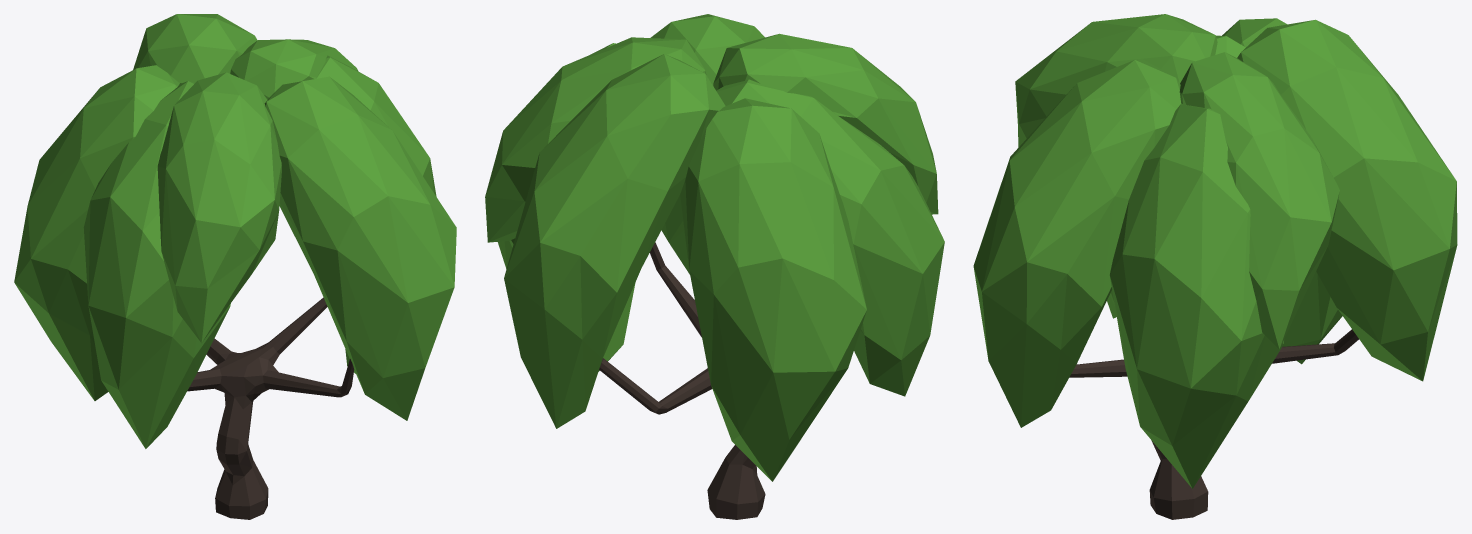
File: Willow_Tree_Spring.fbx
3 renders of one model, left to right at view 1: azimuth 30°, elevation 25°; view 2: azimuth 150°, elevation 25°; view 3: azimuth 270°, elevation 25°, orthographic. The views are drawn at different scales.
Visible parts, largest first — view 1: Willow_Tree_Spring; view 2: Willow_Tree_Spring; view 3: Willow_Tree_Spring.
Boxes of the visible parts, x1,y1,x2,y2 form: Willow_Tree_Spring: [14, 14, 456, 519]; Willow_Tree_Spring: [485, 14, 944, 519]; Willow_Tree_Spring: [973, 14, 1457, 519].
Size of the model in its own units: 744 by 858 by 769.
